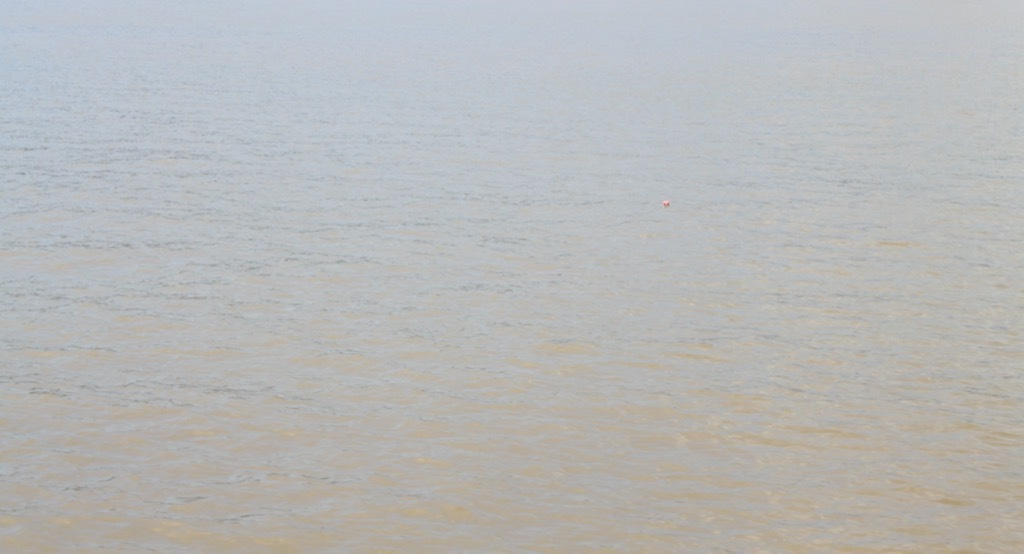plastic: (647, 183, 688, 224)
